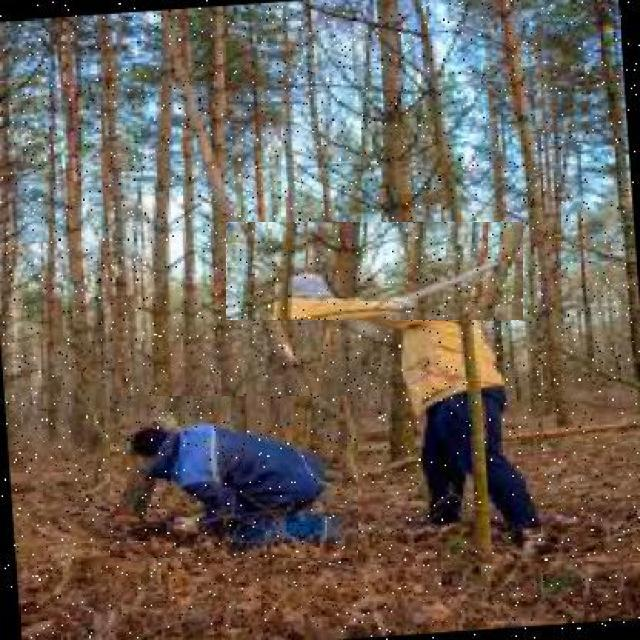poacher: (352, 268, 554, 550), (110, 396, 358, 558), (226, 222, 523, 320)
